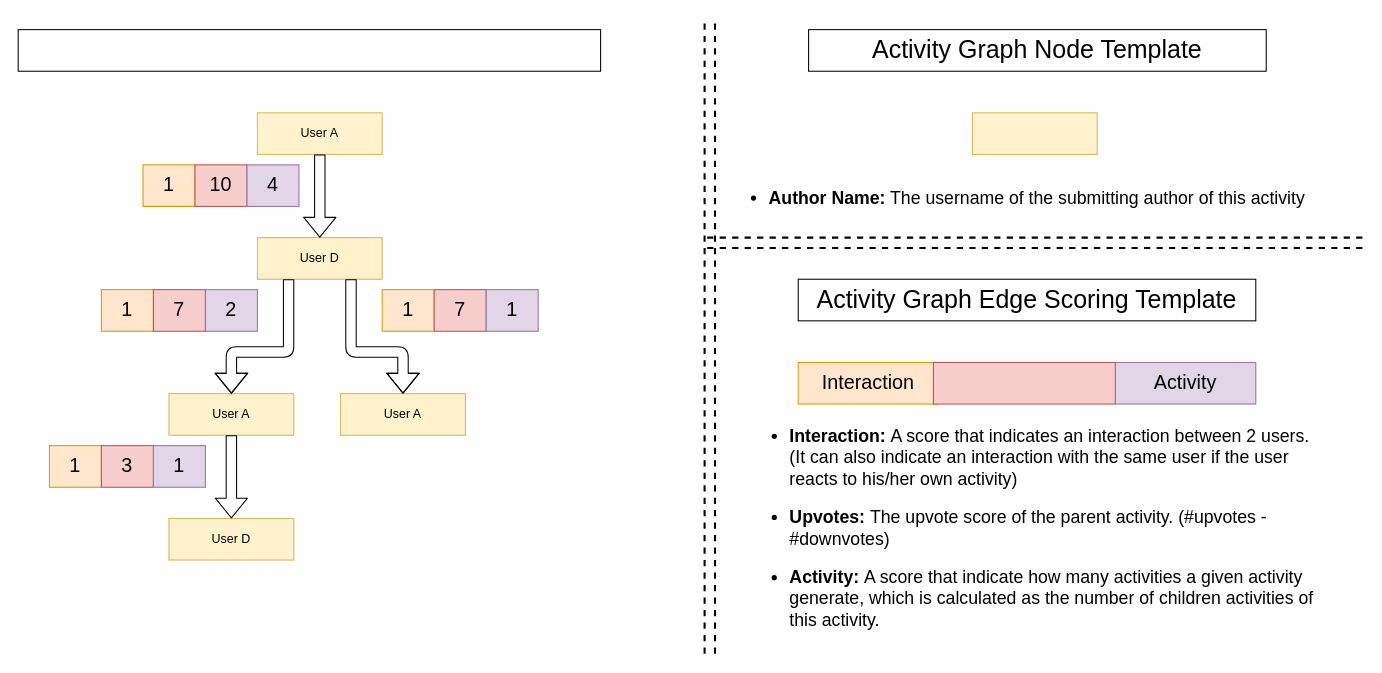
Image size: 1382x673. Some labels were removed from this diagram. The shapes that lost their labels are listed below. From the top down, each one's centre as x and y in pixels, then its label:
At (x=309, y=50): "Activity Graph Example".
At (x=1034, y=133): "Author Name".
At (x=1023, y=382): "Upvotes".
